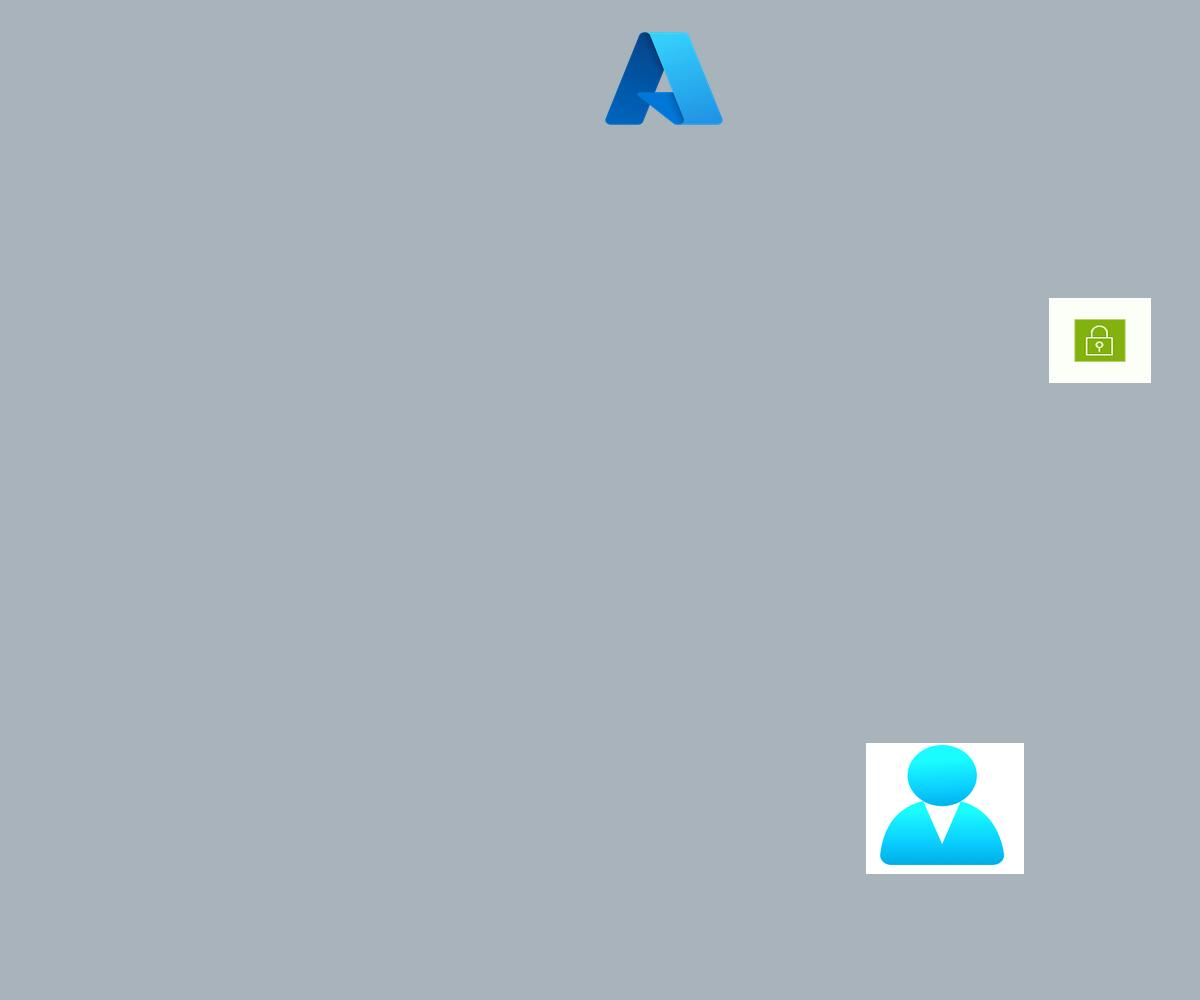AWS-Public-subnet: (1049, 298, 1151, 383)
Azure_services: (600, 25, 728, 132)
Azure_users: (866, 743, 1024, 874)
